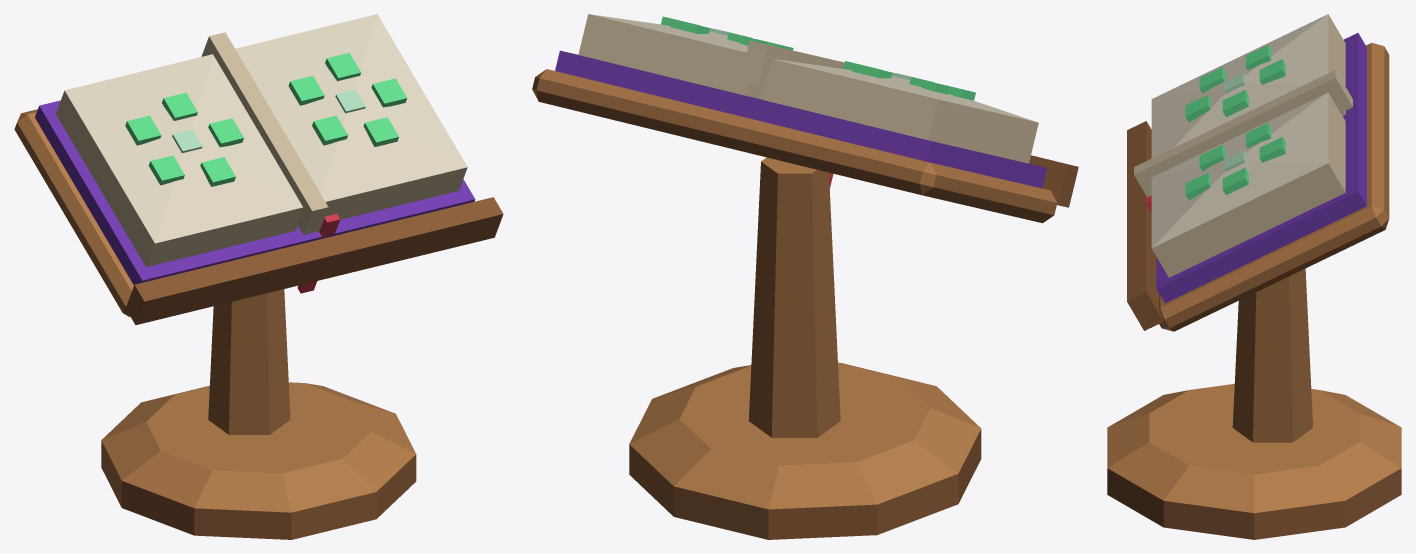
File: habitat_prop_goomancer.fbx
3 renders of one model, left to right at view 1: azimuth 30°, elevation 25°; view 2: azimuth 150°, elevation 25°; view 3: azimuth 270°, elevation 25°, orthographic. The views are drawn at different scales.
Visible parts, largest first — view 1: habitat_prop_goomancer; view 2: habitat_prop_goomancer; view 3: habitat_prop_goomancer.
Part boxes in pixels (box(x1,y1,x2,y2)): habitat_prop_goomancer: box(14, 14, 503, 539); habitat_prop_goomancer: box(532, 14, 1078, 539); habitat_prop_goomancer: box(1107, 14, 1401, 539).
Bounding box in the file's own units: 1.1 × 1.2 × 0.7989.
